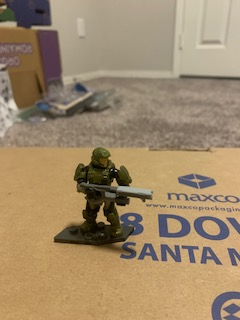soldier: (73, 147, 154, 236)
